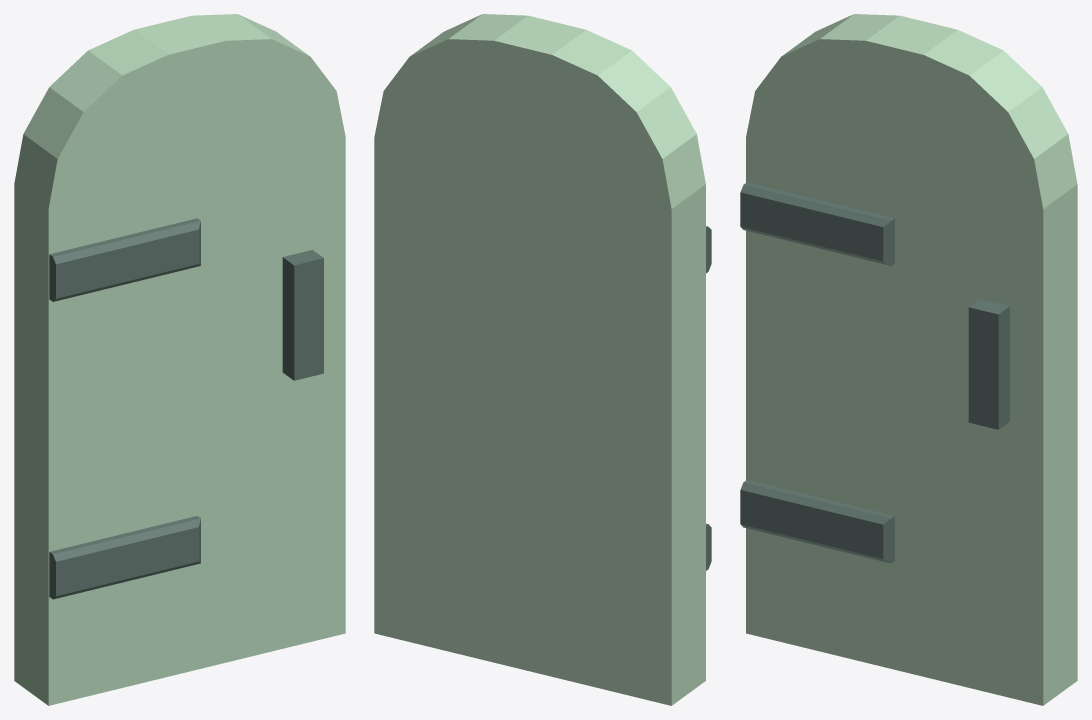
The model's file is Door.fbx.
3 views of the same model, side by side, from view 1: azimuth 30°, elevation 25°; view 2: azimuth 150°, elevation 25°; view 3: azimuth 330°, elevation 25° (orthographic).
Visible parts, largest first — view 1: Door; view 2: Door; view 3: Door.
Part boxes in pixels (x1,y1,x2,y2): Door: (14,14,345,705); Door: (374,14,711,705); Door: (740,14,1077,705).
Size of the model in its own units: 1 by 2 by 0.2667.
